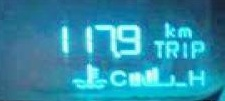-: (110, 47, 121, 58)
1: (55, 22, 71, 55), (80, 22, 91, 55)
7: (91, 21, 115, 52)
9: (113, 22, 143, 53)
X: (187, 67, 207, 87), (106, 68, 125, 87), (188, 37, 205, 58), (163, 36, 178, 57), (152, 38, 163, 57), (162, 20, 173, 36), (180, 37, 188, 58), (176, 25, 190, 36)
